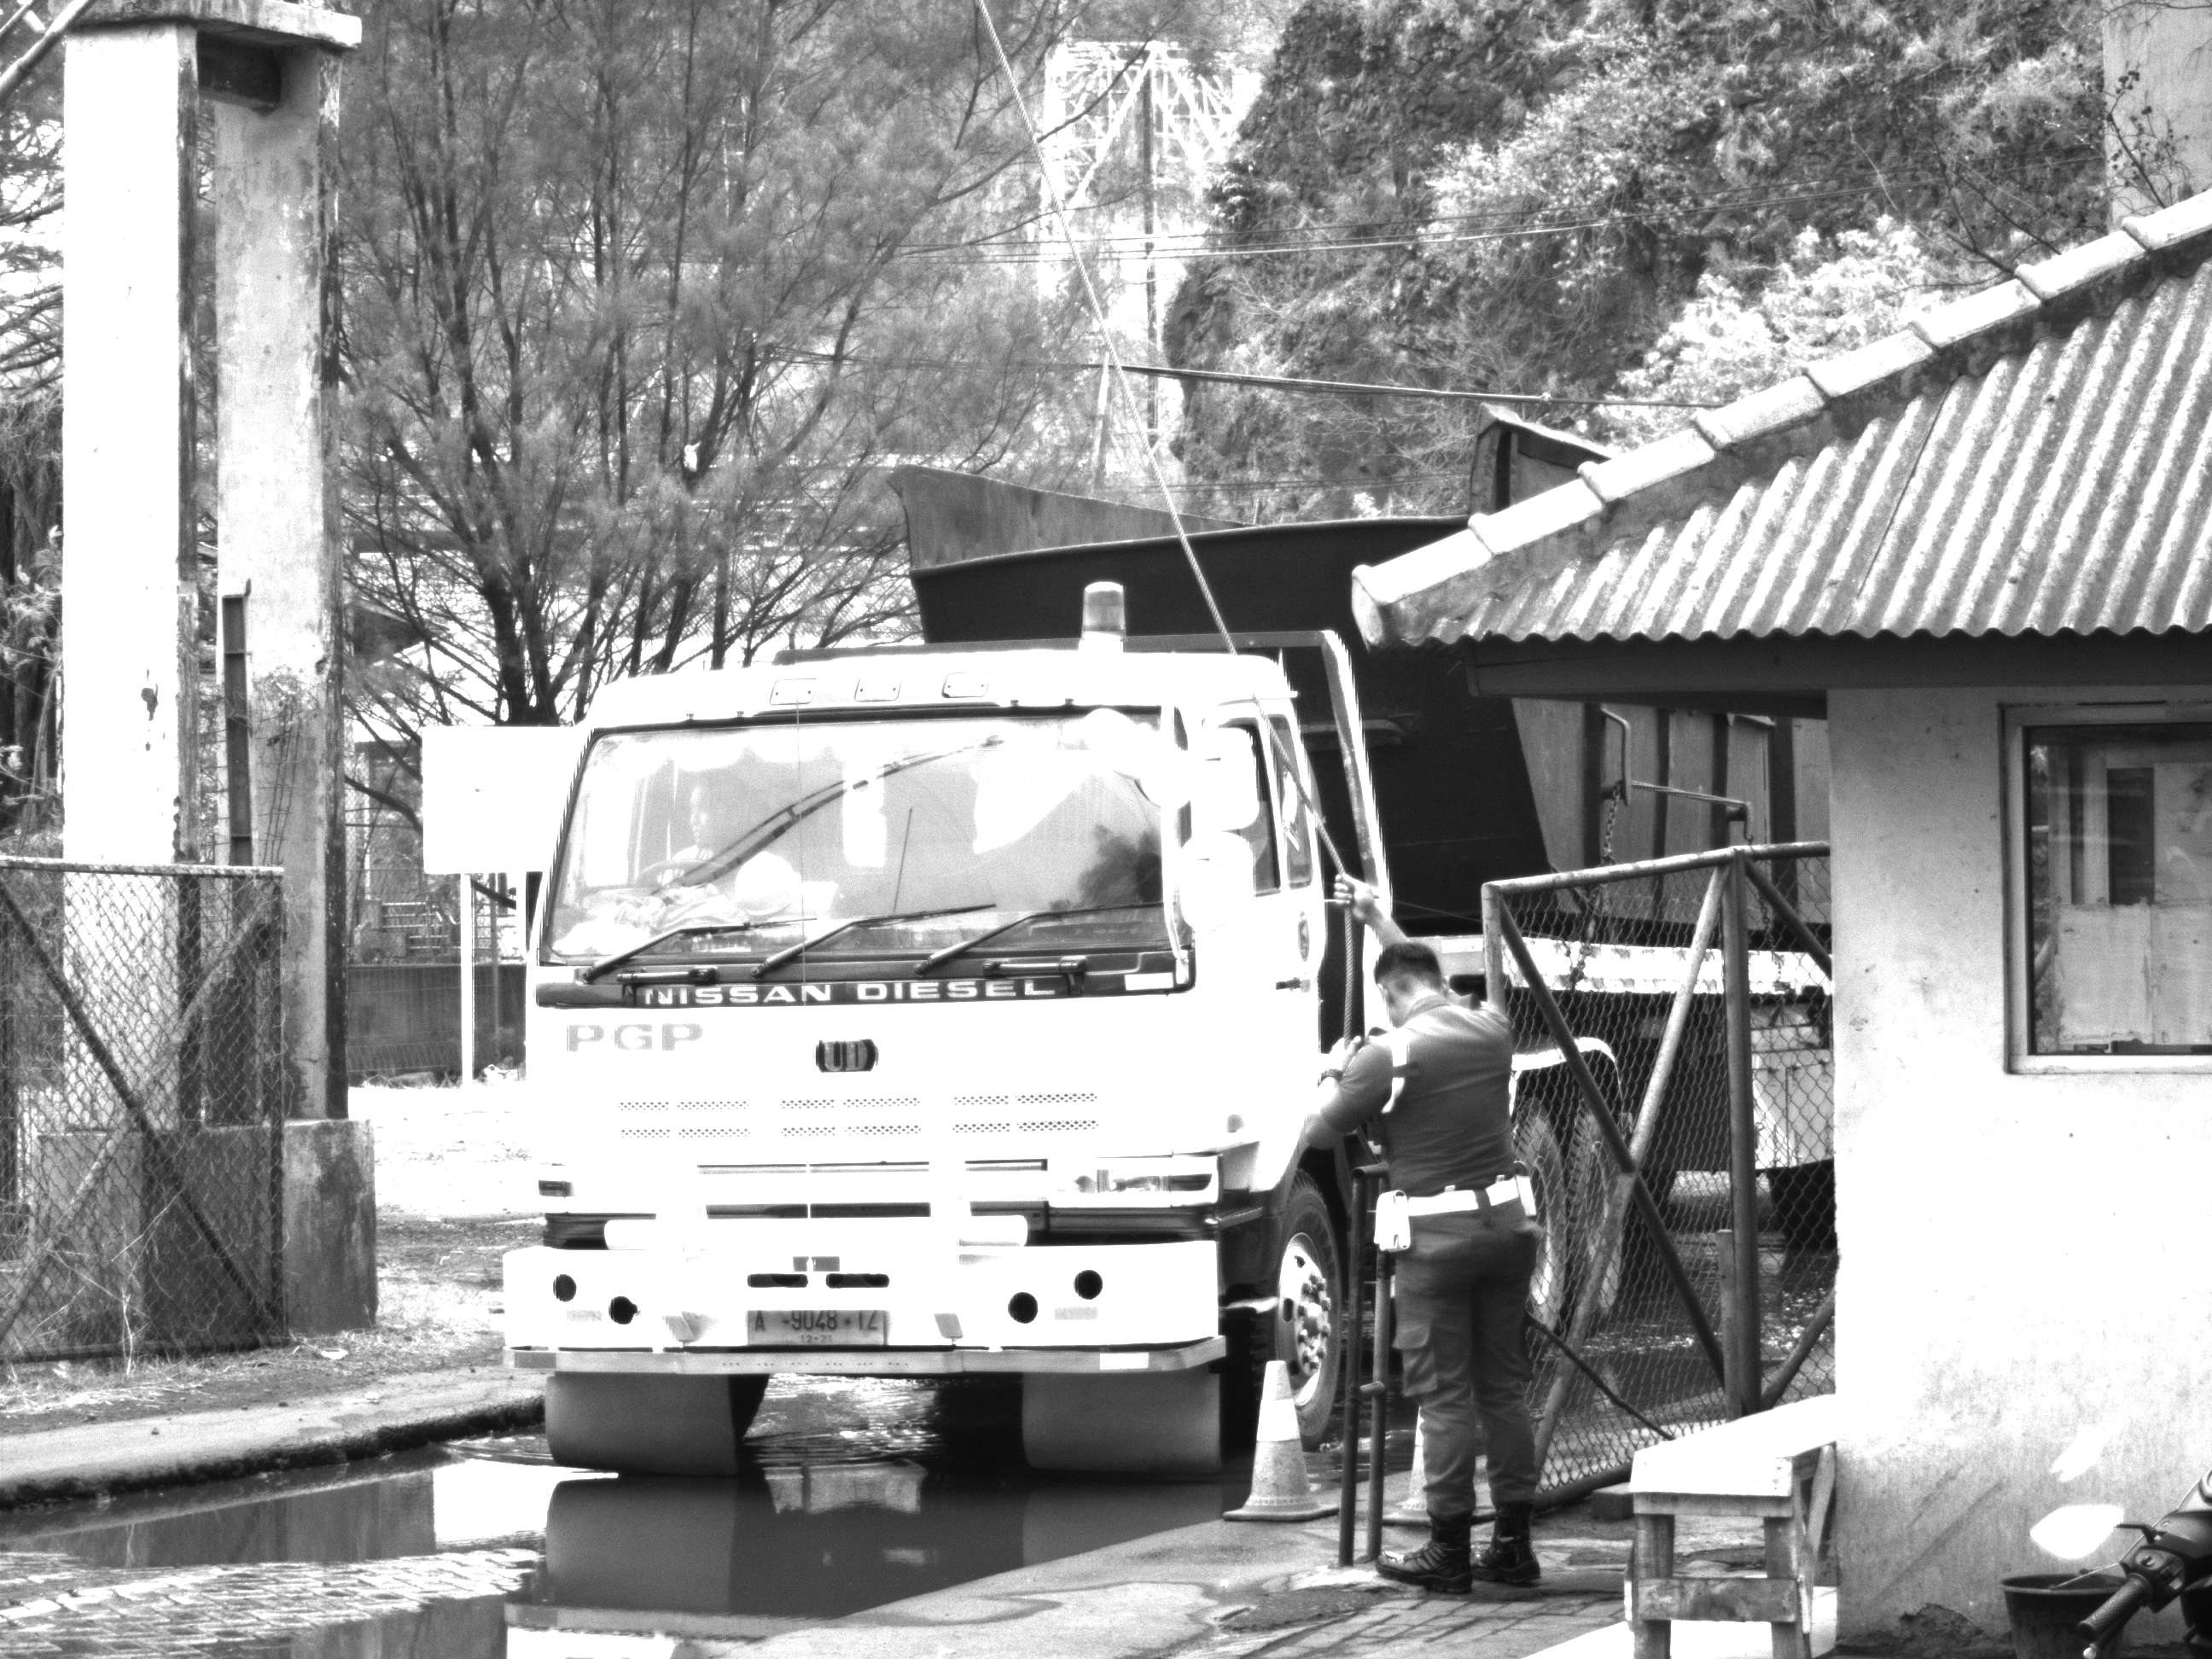day_truck_front: (518, 571, 1371, 1452)
plate: (747, 1310, 891, 1349)
